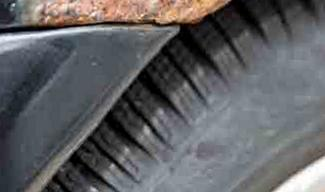rust: (33, 1, 223, 28)
